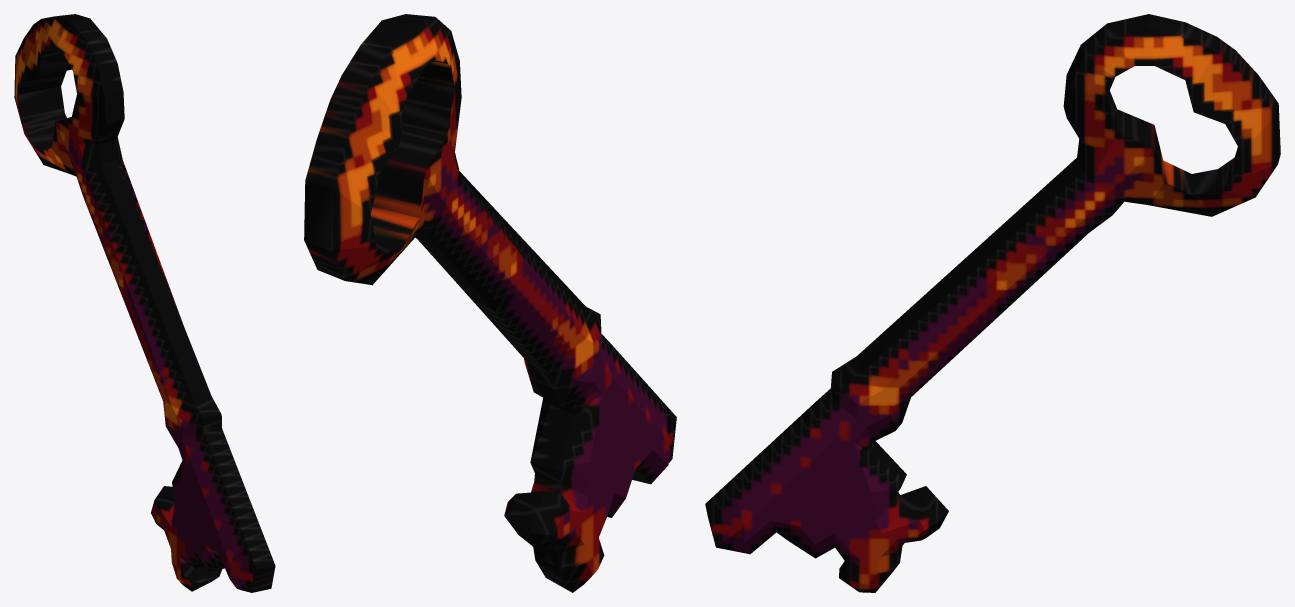
File: Red Key.glb
3 renders of one model, left to right at view 1: azimuth 30°, elevation 25°; view 2: azimuth 150°, elevation 25°; view 3: azimuth 270°, elevation 25°, orthographic. The views are drawn at different scales.
Visible parts, largest first — view 1: Key Export; view 2: Key Export; view 3: Key Export.
Part boxes in pixels (<box>): Key Export: <box>14,14,275,592</box>; Key Export: <box>304,14,676,592</box>; Key Export: <box>705,14,1280,592</box>.
Size of the model in its own units: 0.2879 by 3.16 by 2.87.
1 material, 1 textured.
